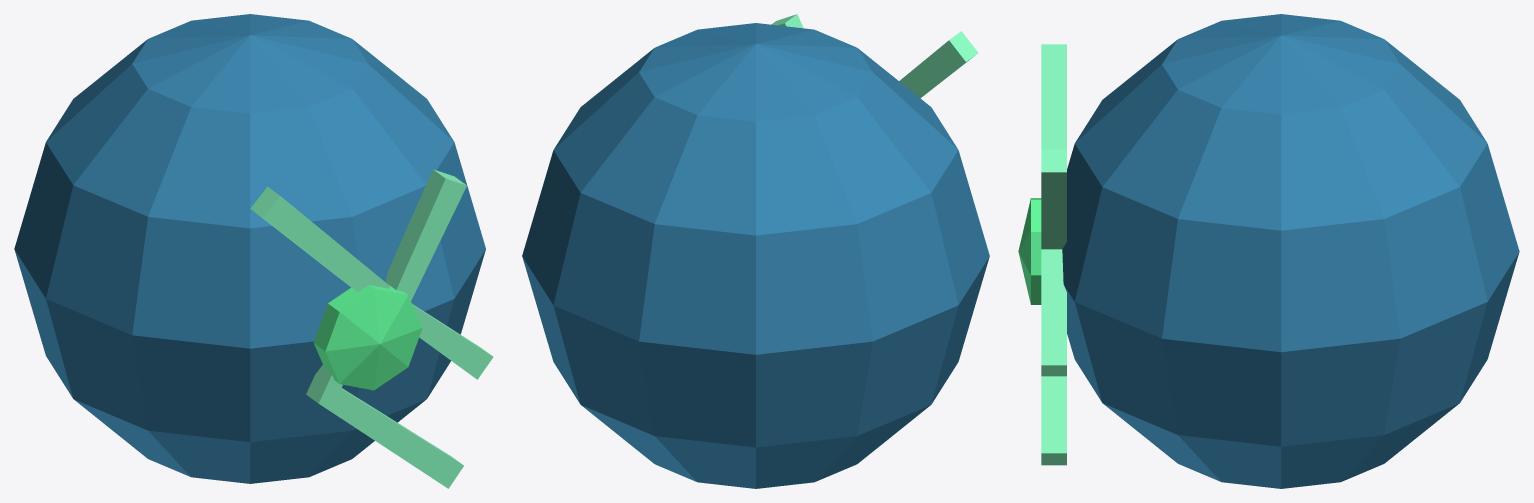
File: thunder_vein_pearl.obj
The picture shows the model from 3 angles, left to right: view 1: azimuth 30°, elevation 25°; view 2: azimuth 150°, elevation 25°; view 3: azimuth 270°, elevation 25°; orthographic projection.
Visible parts, largest first — view 1: thunder_core, thunder_seed, thunder_vein_0, thunder_vein_1, thunder_vein_1_edge, thunder_vein_0_edge; view 2: thunder_core, thunder_vein_0, thunder_vein_0_edge; view 3: thunder_core, thunder_vein_1_edge, thunder_vein_0_edge, thunder_seed.
Boxes of the visible parts, bbox=[...] form: thunder_core: bbox=[14, 14, 485, 483]; thunder_seed: bbox=[313, 285, 422, 390]; thunder_vein_0: bbox=[263, 196, 463, 488]; thunder_vein_1: bbox=[396, 179, 493, 379]; thunder_vein_1_edge: bbox=[385, 169, 491, 355]; thunder_vein_0_edge: bbox=[250, 186, 462, 464]; thunder_core: bbox=[522, 23, 989, 488]; thunder_vein_0: bbox=[899, 40, 965, 97]; thunder_vein_0_edge: bbox=[920, 31, 978, 98]; thunder_core: bbox=[1062, 14, 1519, 488]; thunder_vein_1_edge: bbox=[1041, 149, 1066, 376]; thunder_vein_0_edge: bbox=[1041, 44, 1066, 465]; thunder_seed: bbox=[1018, 198, 1041, 304].
Size of the model in its own units: 0.84 by 0.84 by 0.883.
